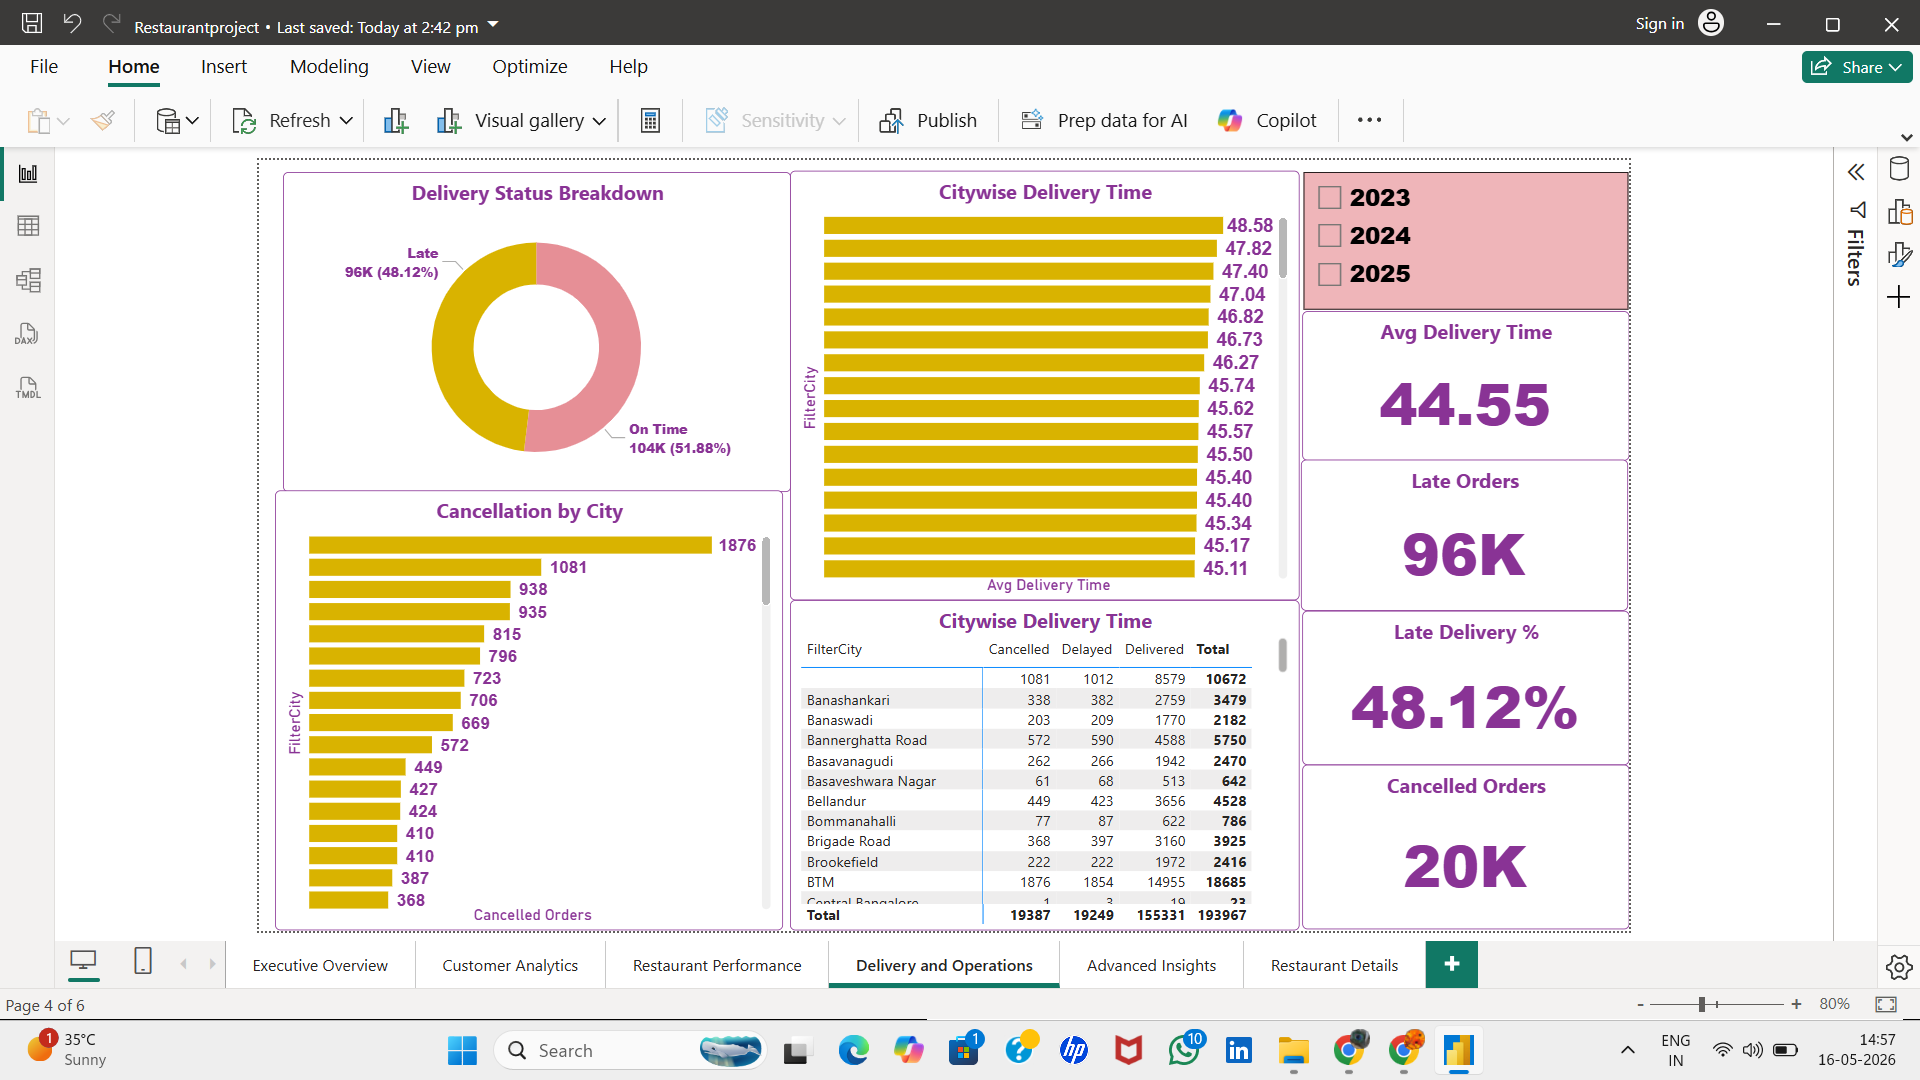

Layout of this report page (visuals, bound fields, positions):
{"tool":"powerbi","page":{"name":"Delivery and Operations","canvas":[1280,720],"ordinal":3},"visuals":[{"type":"card","title":"Avg Delivery Time","fields":{"Values":["Orders.Avg Delivery Time"]},"box":[974.9,141.4,305.5,139.7],"z":0},{"type":"card","title":"Cancelled Orders","fields":{"Values":["Orders.Cancelled Orders"]},"box":[974.9,565.4,305.5,154.4],"z":1000},{"type":"card","title":"Late Orders","fields":{"Values":["Orders.Late Orders"]},"box":[973.3,279.5,305.5,141.4],"z":2000},{"type":"card","title":"Late Delivery %","fields":{"Values":["Orders.Late Delivery %"]},"box":[974.9,420.8,305.5,144.6],"z":3000},{"type":"donutChart","title":"Delivery Status Breakdown","fields":{"Category":["Orders.Delivery Status"],"Y":["Orders.Total Orders"]},"box":[22.7,11.4,474.5,299],"z":4000},{"type":"barChart","title":"Citywise Delivery Time","fields":{"Category":["Customers.FilterCity"],"Y":["Orders.Avg Delivery Time"]},"box":[496.8,10.2,476.3,401.2],"z":5000},{"type":"barChart","title":"Cancellation by City","fields":{"Category":["Customers.FilterCity"],"Y":["Orders.Cancelled Orders"]},"box":[15.4,309,474.6,411.4],"z":6000},{"type":"pivotTable","title":"Citywise Delivery Time","fields":{"Rows":["Customers.FilterCity"],"Columns":["Orders.OrderStatus"],"Values":["Orders.Total Orders"]},"box":[496.8,411.4,476.3,309],"z":7000},{"type":"slicer","fields":{"Values":["DateTable.Year"]},"box":[976.5,11.4,303.8,128.4],"z":8000}]}

Visuals, with their boxes on the page's 1280x720 design canvas (x1, y1, x2, y2). These are canvas units, not pixel positions in the 1920x1080 screenshot, which may show the page scaled, cropped or inside an application window:
"Avg Delivery Time" card: [x1=975, y1=141, x2=1280, y2=281]
"Cancelled Orders" card: [x1=975, y1=565, x2=1280, y2=720]
"Late Orders" card: [x1=973, y1=280, x2=1279, y2=421]
"Late Delivery %" card: [x1=975, y1=421, x2=1280, y2=565]
"Delivery Status Breakdown" donutChart: [x1=23, y1=11, x2=497, y2=310]
"Citywise Delivery Time" barChart: [x1=497, y1=10, x2=973, y2=411]
"Cancellation by City" barChart: [x1=15, y1=309, x2=490, y2=720]
"Citywise Delivery Time" pivotTable: [x1=497, y1=411, x2=973, y2=720]
slicer - DateTable.Year: [x1=976, y1=11, x2=1280, y2=140]
